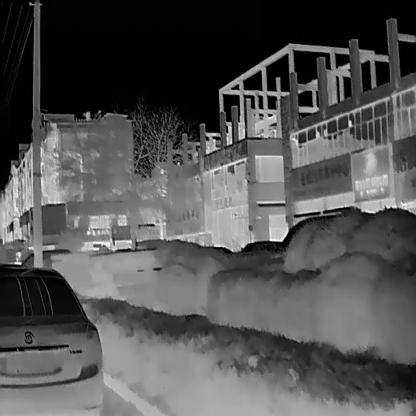car: (0, 266, 103, 414)
